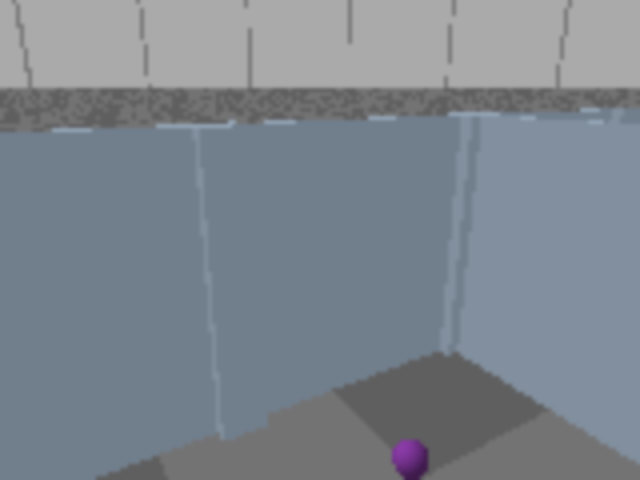puck: (384, 426, 439, 478)
